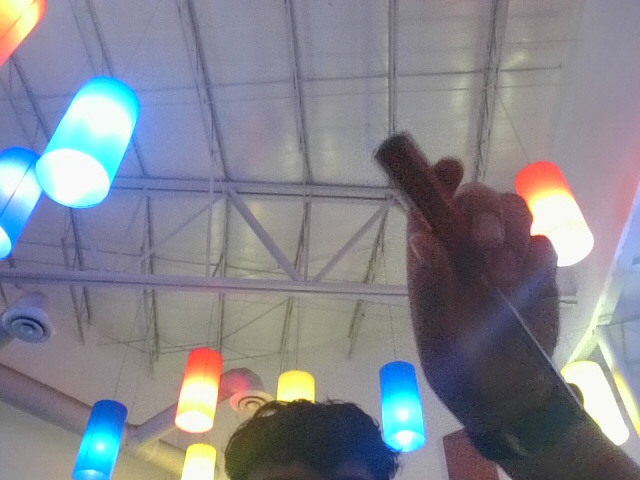destornillador: (369, 126, 640, 479)
